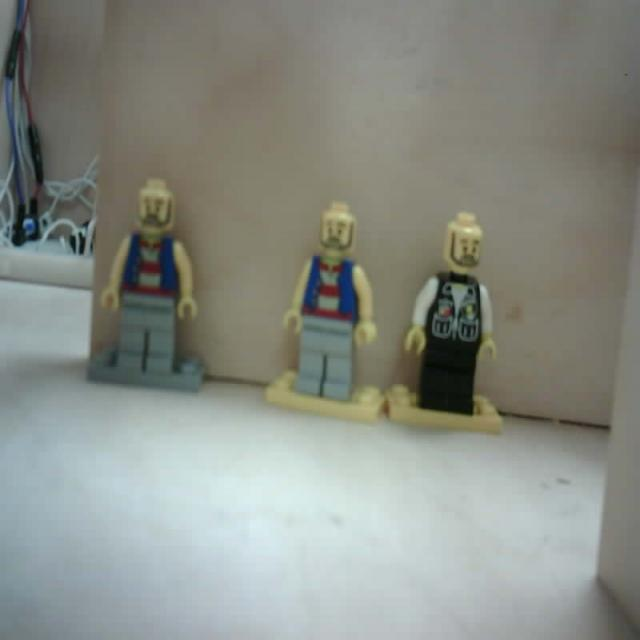Lego-People: (86, 178, 211, 396), (269, 200, 389, 427), (390, 212, 506, 434)
